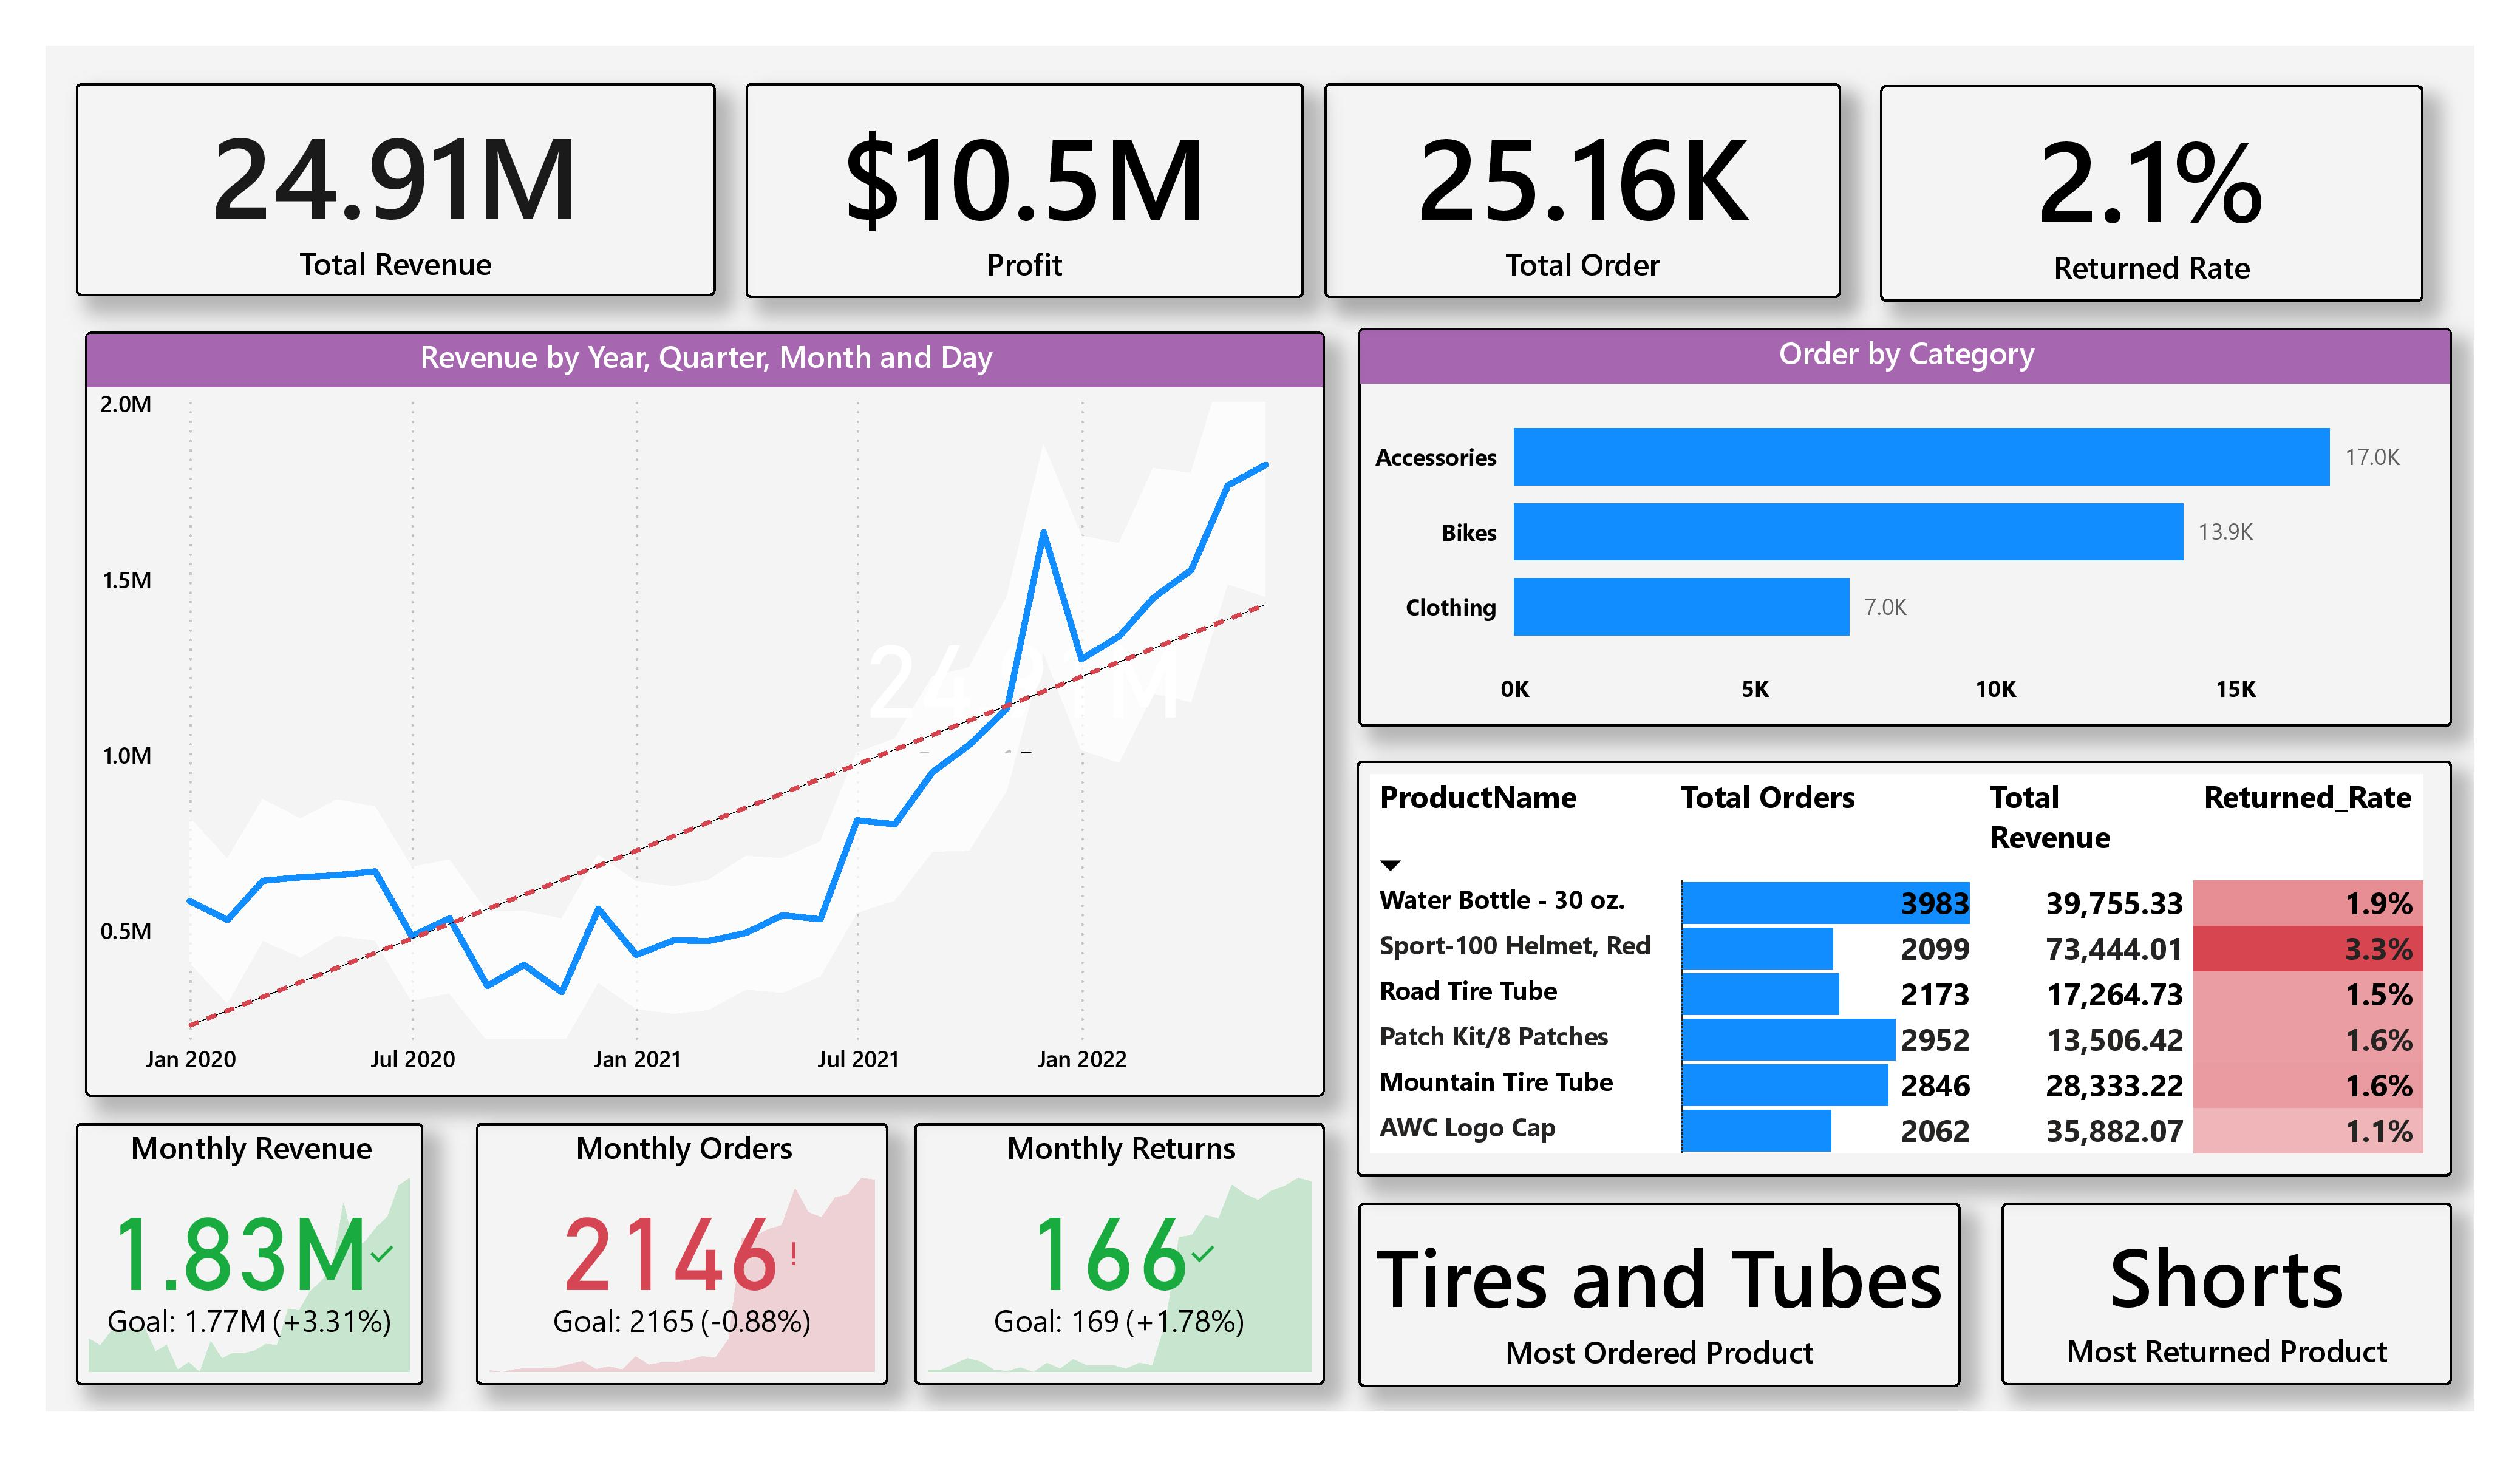

This screenshot's page, from the dashboard's own definition file:
{"tool":"powerbi","page":{"name":"Executive Dashboard","canvas":[1280,720],"ordinal":0},"visuals":[{"type":"card","fields":{"Values":["Sales Data.Total Revenue"]},"box":[15.9,19.6,337.5,112.5],"z":0},{"type":"card","fields":{"Values":["Sales Data.Profit"]},"box":[369.3,19.6,293.5,113.7],"z":1000},{"type":"card","fields":{"Values":["Sum(Sales Data.Revenue)"]},"box":[411,300.3,209.3,77.3],"z":2000},{"type":"card","fields":{"Values":["Sales Data.Returned_Rate"]},"box":[967.3,20.8,286.1,113.7],"z":3000},{"type":"barChart","title":"Order by Category","fields":{"Category":["Product Categories Lookup.CategoryName"],"Y":["Count(Sales Data.OrderNumber)"]},"box":[691.7,149.3,576.4,209.8],"z":4000},{"type":"card","fields":{"Values":["Count(Sales Data.OrderNumber)"]},"box":[673.8,19.6,272.7,113.7],"z":5000},{"type":"pivotTable","fields":{"Rows":["Product Lookup.ProductName"],"Values":["Calendar Lookup.Total Orders","Sales Data.Total Revenue","Sales Data.Returned_Rate"]},"box":[691.4,377.3,576.4,218.6],"z":6000},{"type":"card","fields":{"Values":["Min(Product Subcategories Lookup.SubcategoryName)"]},"box":[691.7,610.4,317.5,96.4],"z":7000},{"type":"card","fields":{"Values":["Min(Product Subcategories Lookup.SubcategoryName)"]},"box":[1031.4,610.4,236.4,95.5],"z":8000},{"type":"lineChart","title":"Revenue by Year, Quarter, Month and Day","fields":{"Y":["Sales Data.Total Revenue"],"Category":["Calendar Lookup.Start of Month.Variation.Date Hierarchy.Year","Calendar Lookup.Start of Month.Variation.Date Hierarchy.Quarter","Calendar Lookup.Start of Month.Variation.Date Hierarchy.Month","Calendar Lookup.Start of Month.Variation.Date Hierarchy.Day"]},"box":[21,150.6,652.5,403.2],"z":9000},{"type":"kpi","title":"Monthly Returns","fields":{"TrendLine":["Calendar Lookup.Start of Month"],"Goal":["Calendar Lookup.Previous Month Returns"],"Indicator":["Returns Data.Returned Qt"]},"box":[458.2,568.3,215.4,137.6],"z":10000},{"type":"kpi","title":"Monthly Orders","fields":{"TrendLine":["Calendar Lookup.Start of Month"],"Goal":["Calendar Lookup.Previous Month Orders"],"Indicator":["Calendar Lookup.Total Orders"]},"box":[226.7,568.3,217,137.6],"z":11000},{"type":"kpi","title":"Monthly Revenue","fields":{"TrendLine":["Calendar Lookup.Start of Month"],"Goal":["Calendar Lookup.Previous Month Revenue"],"Indicator":["Sales Data.Total Revenue"]},"box":[16.2,568.3,183,137.6],"z":12000}]}

Visuals, with their boxes in screenshot pixels (x1, y1, x2, y2):
card - Sales Data.Total Revenue: select_region(76, 83, 716, 296)
card - Sales Data.Profit: select_region(746, 83, 1303, 299)
card - Sum(Sales Data.Revenue): select_region(825, 615, 1222, 762)
card - Sales Data.Returned_Rate: select_region(1881, 85, 2424, 301)
"Order by Category" barChart: select_region(1358, 329, 2452, 727)
card - Count(Sales Data.OrderNumber): select_region(1324, 83, 1842, 299)
pivotTable - Product Lookup.ProductName x Calendar Lookup.Total Orders: select_region(1358, 761, 2451, 1176)
card - Min(Product Subcategories Lookup.SubcategoryName): select_region(1358, 1203, 1961, 1387)
card - Min(Product Subcategories Lookup.SubcategoryName): select_region(2003, 1203, 2451, 1385)
"Revenue by Year, Quarter, Month and Day" lineChart: select_region(86, 331, 1324, 1096)
"Monthly Returns" kpi: select_region(915, 1124, 1324, 1385)
"Monthly Orders" kpi: select_region(475, 1124, 888, 1385)
"Monthly Revenue" kpi: select_region(77, 1124, 424, 1385)
